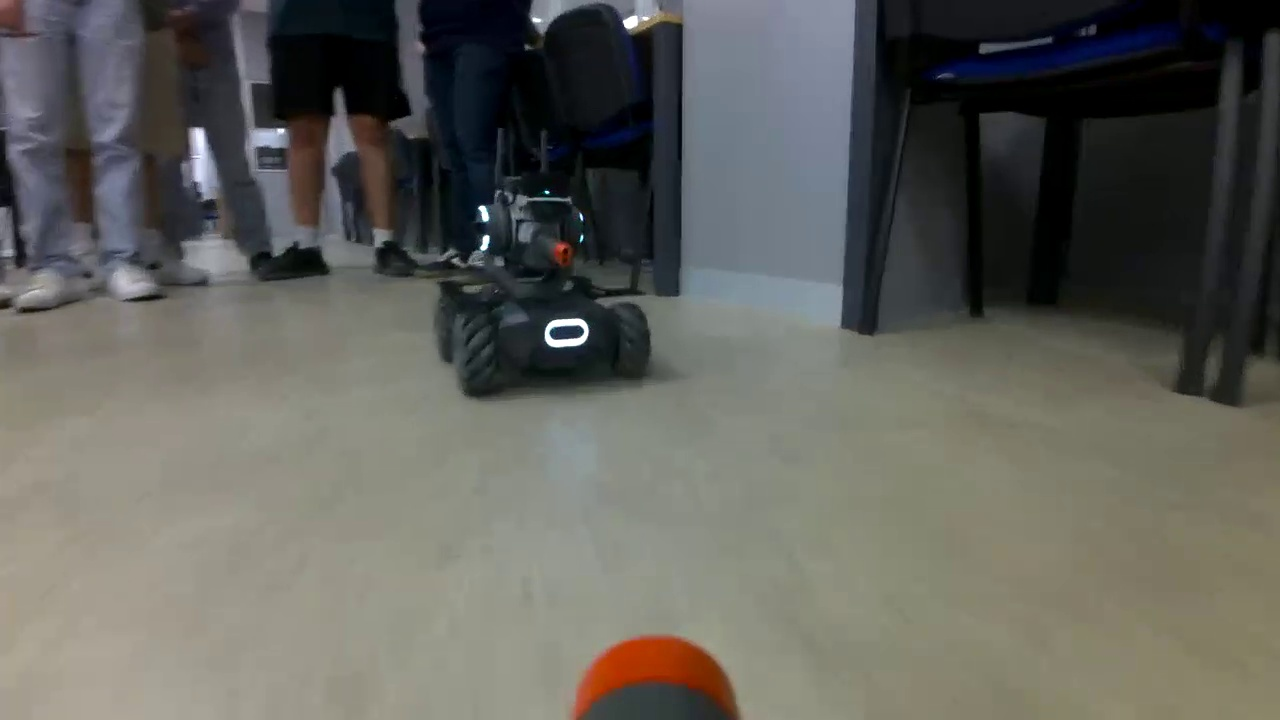robot: (430, 173, 653, 400)
